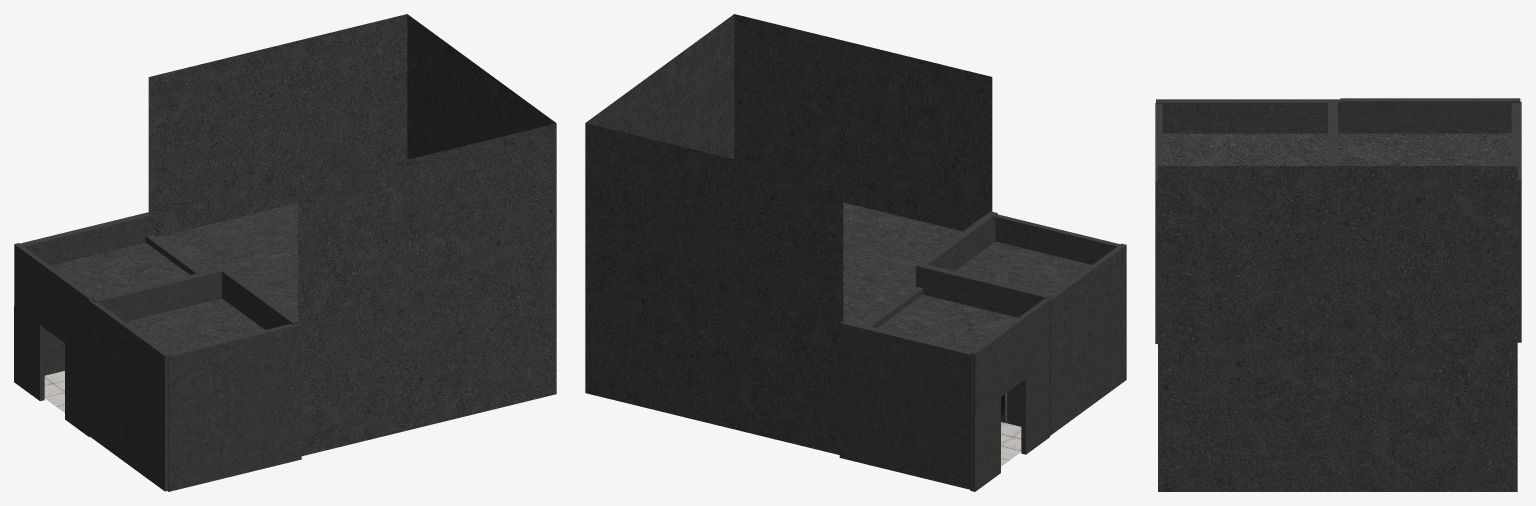
Rendered from Map_HC_457CR.fbx.
3 renders of one model, left to right at view 1: azimuth 30°, elevation 25°; view 2: azimuth 150°, elevation 25°; view 3: azimuth 270°, elevation 25°, orthographic. The views are drawn at different scales.
Parts seen in each view (by area): view 1: RightBorder, LeftBorder, Cube__10_, Ceil, Cube__9_, RightBorder__1_, Cube__8_, Cube__5_, Cube__13_, Cube__6_, Cube__2_, Cube__7_ (+2 smaller); view 2: LeftBorder, RightBorder, Cube__5_, Ceil, RightBorder__1_, Cube__9_, Cube__8_, Cube__13_, Cube__10_, Cube__6_, Cube__7_, Cube__2_ (+2 smaller); view 3: RightBorder__1_, Ceil, Cube__8_, Cube__9_, Cube__5_, Cube__10_, Cube__13_.
Boxes of the visible parts, <box> form: RightBorder: <box>298,123,556,456</box>; LeftBorder: <box>148,14,407,237</box>; Cube__10_: <box>168,323,301,491</box>; Ceil: <box>50,203,297,353</box>; Cube__9_: <box>88,299,170,491</box>; RightBorder__1_: <box>407,14,555,159</box>; Cube__8_: <box>14,243,93,359</box>; Cube__5_: <box>20,212,152,375</box>; Cube__13_: <box>92,267,225,321</box>; Cube__6_: <box>14,306,44,400</box>; Cube__2_: <box>222,266,299,329</box>; Cube__7_: <box>65,343,89,436</box>; LeftBorder: <box>585,123,843,454</box>; RightBorder: <box>734,14,992,231</box>; Cube__5_: <box>839,320,972,490</box>; Ceil: <box>843,202,1091,351</box>; RightBorder__1_: <box>586,14,734,159</box>; Cube__9_: <box>1049,243,1126,435</box>; Cube__8_: <box>970,298,1049,415</box>; Cube__13_: <box>920,263,1052,317</box>; Cube__10_: <box>995,214,1119,264</box>; Cube__6_: <box>970,397,1000,491</box>; Cube__7_: <box>1021,361,1049,454</box>; Cube__2_: <box>916,211,997,288</box>; RightBorder__1_: <box>1158,166,1517,491</box>; Ceil: <box>1162,133,1511,165</box>; Cube__8_: <box>1340,98,1520,133</box>; Cube__9_: <box>1156,99,1340,133</box>; Cube__5_: <box>1511,101,1521,342</box>; Cube__10_: <box>1155,103,1162,343</box>; Cube__13_: <box>1328,100,1337,165</box>.
Size of the model in its own units: 1822 by 1212 by 1221.
